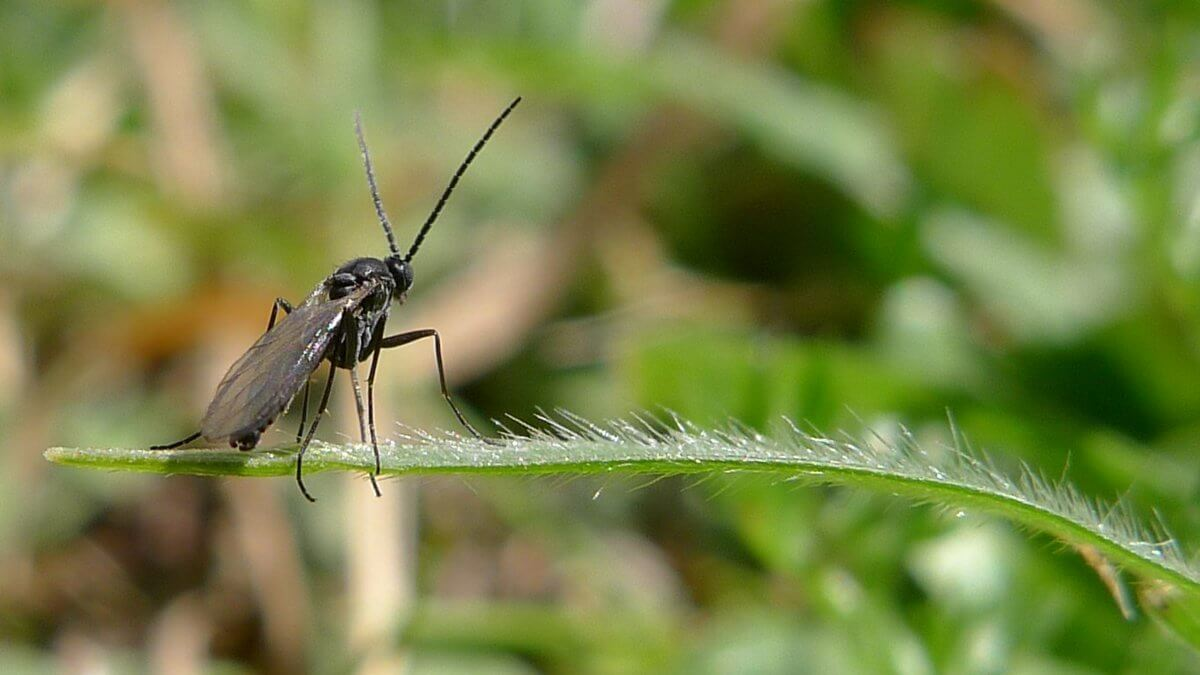Fruit fly: (161, 154, 482, 481)
